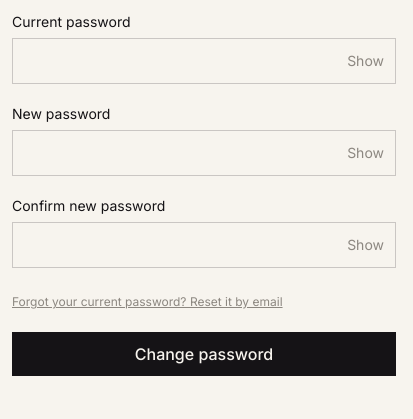
Test: PasswordForm › asks for the current password before sending anything
Type "newpassword456" into the password field labelled "New password" at [204, 153], box top-left (12, 130), bottom-right (396, 176)
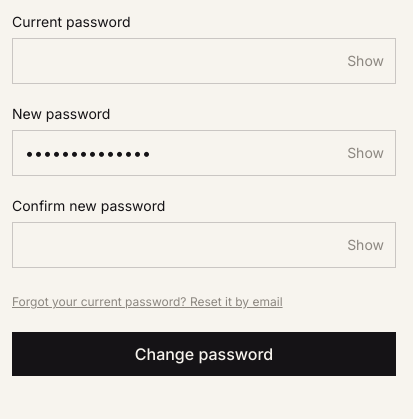
Type "newpassword456" into the password field labelled "Confirm new password" at [204, 245], box top-left (12, 222), bottom-right (396, 268)
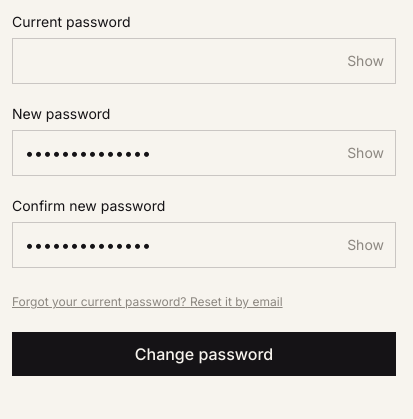
Click the button "Change password" at [204, 354], box top-left (12, 332), bottom-right (396, 376)
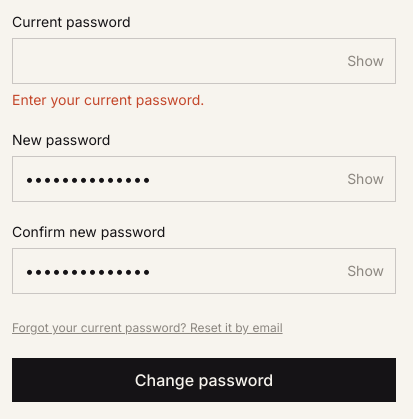
Now the text "Enter your current password." is shown, box top-left (12, 91), bottom-right (204, 108)
